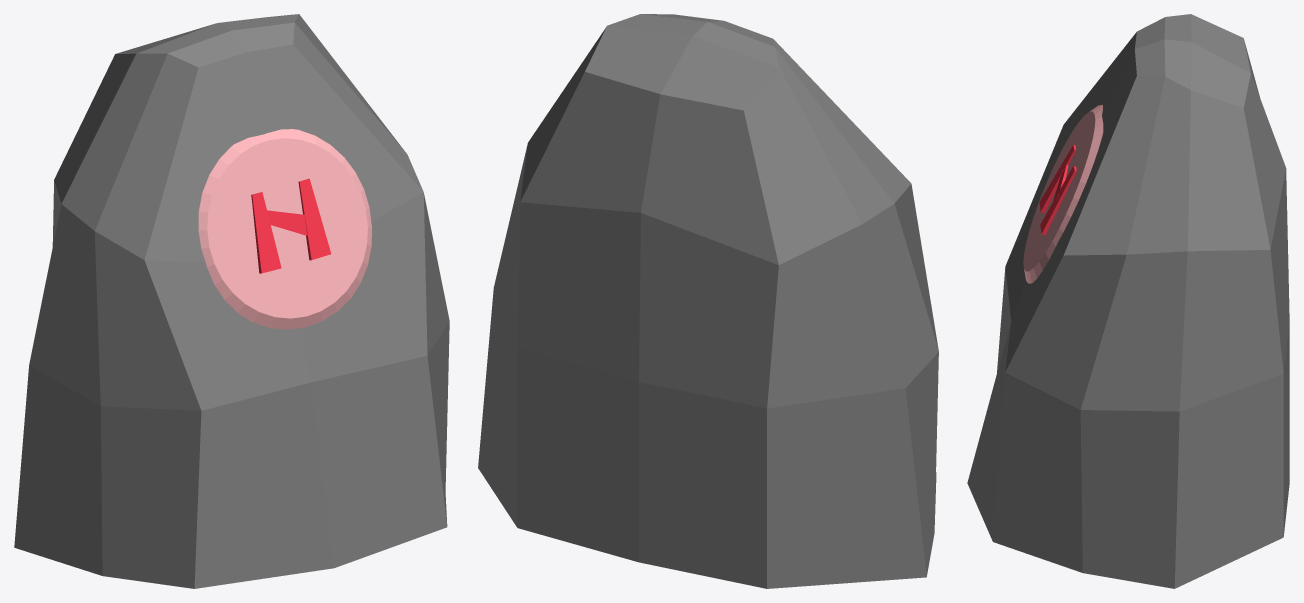
File: rune-rouge.fbx
3 renders of one model, left to right at view 1: azimuth 30°, elevation 25°; view 2: azimuth 150°, elevation 25°; view 3: azimuth 270°, elevation 25°, orthographic. The views are drawn at different scales.
Visible parts, largest first — view 1: Cube; view 2: Cube; view 3: Cube.
Part boxes in pixels (x1,y1,x2,y2): Cube: (14,14,449,588); Cube: (478,14,938,588); Cube: (967,14,1289,588).
Size of the model in its own units: 260 by 277 by 178.
